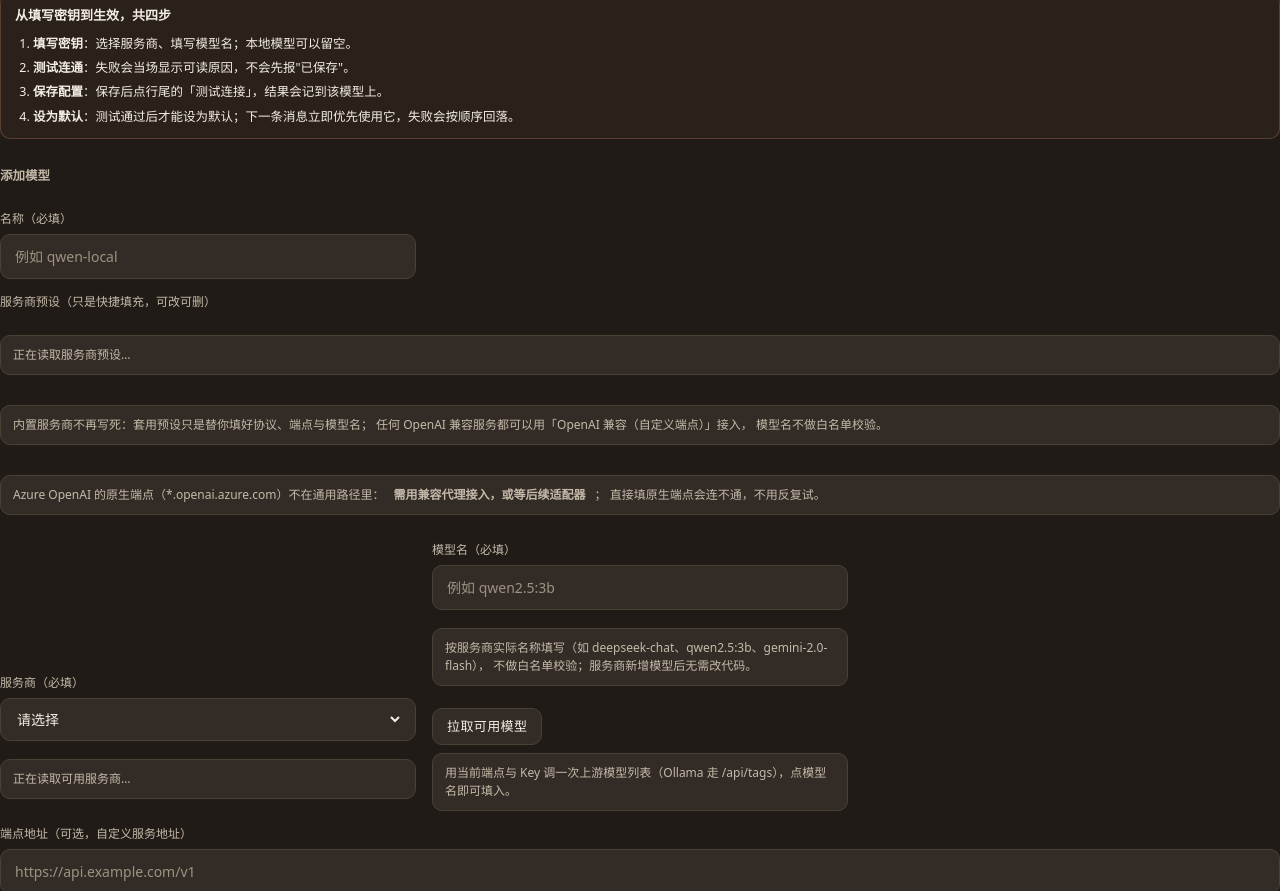
Test: 乐观并发（P2 前端） › 新建（POST）遇到 409 不被版本冲突逻辑劫持
Type "新模型" into the field labelled "名称（必填）" at (208, 256), box [13, 245, 403, 268]
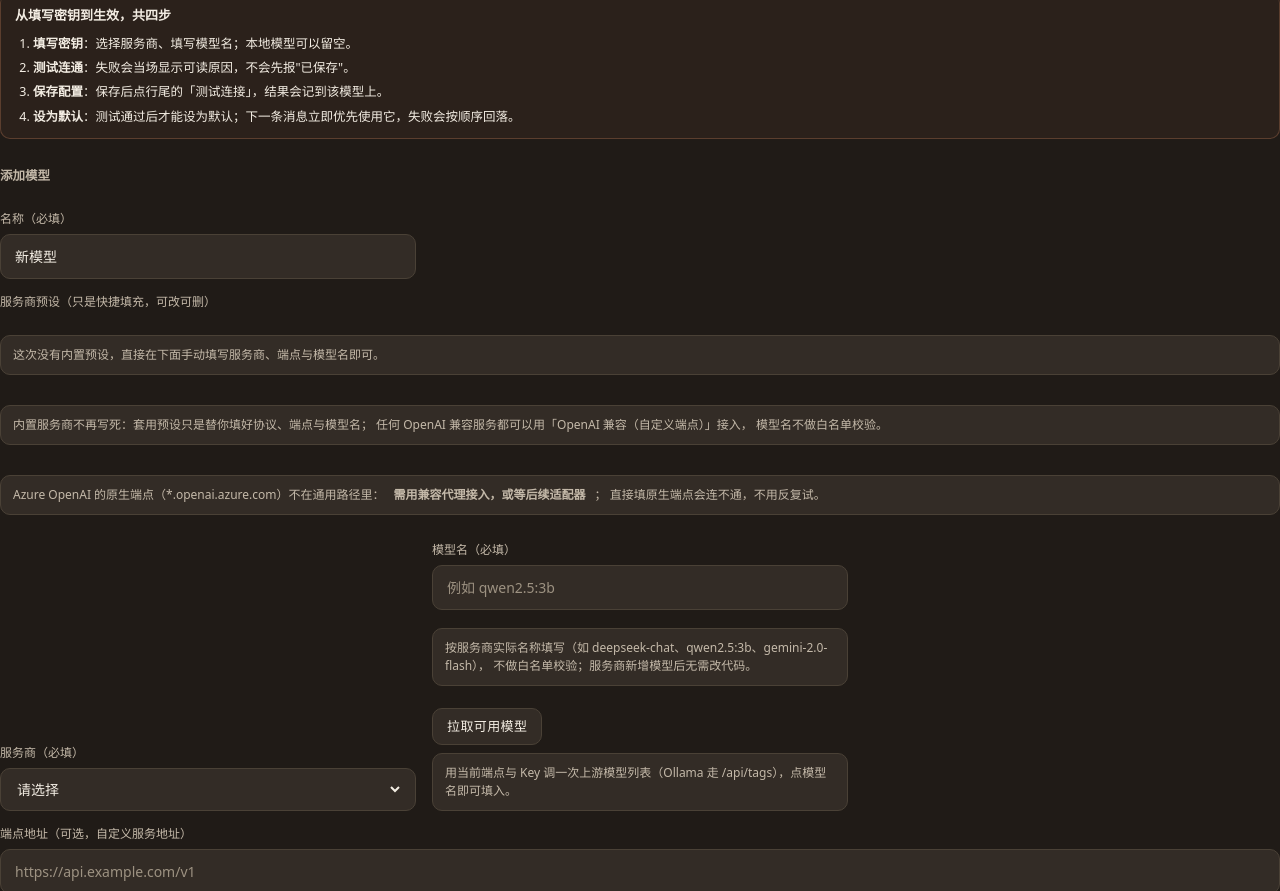
Select "openai_compatible" in the dropdown labelled "服务商（必填）" at (208, 790), box [13, 779, 403, 800]
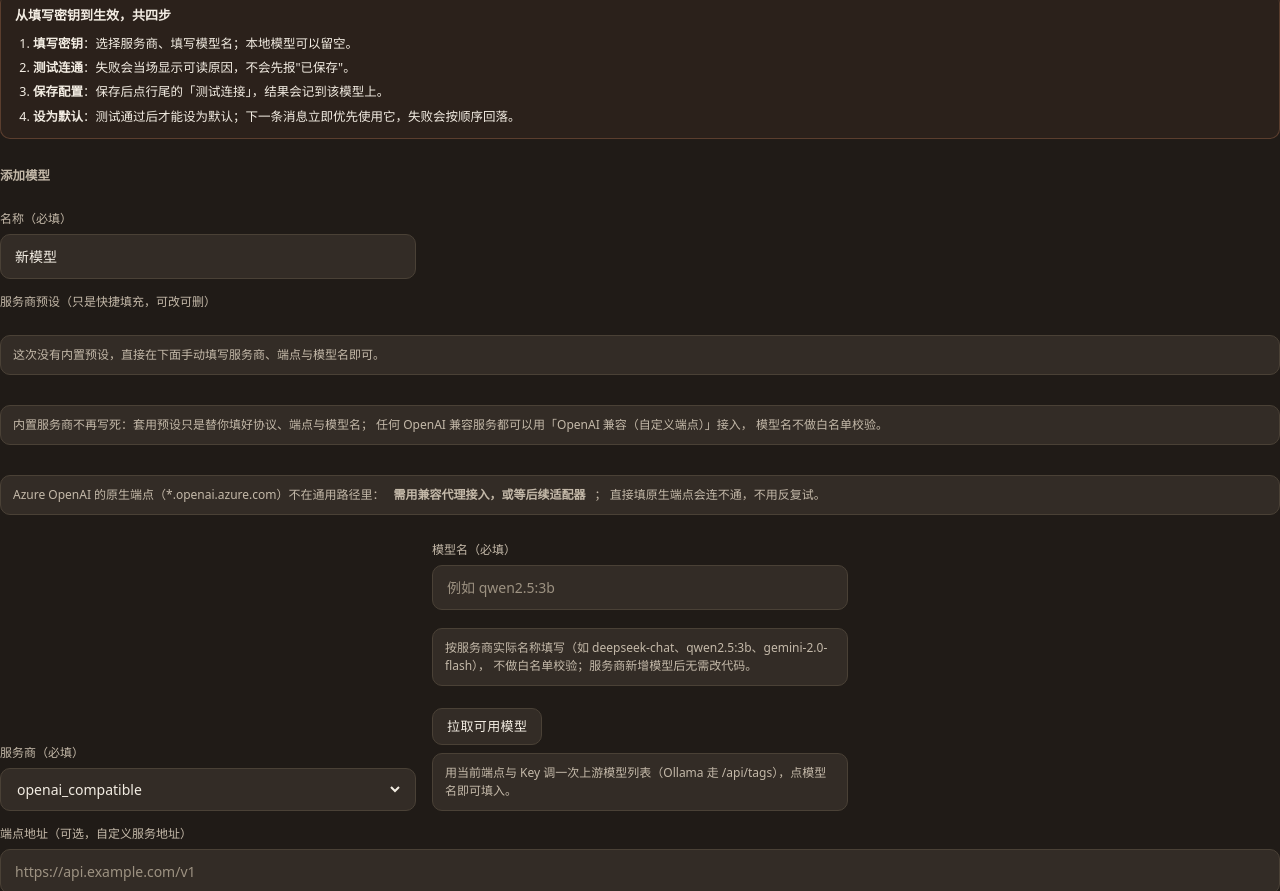
Type "gpt-4o-mini" into the field labelled "模型名（必填）" at (640, 587), box [445, 576, 835, 599]
(page scrolled)
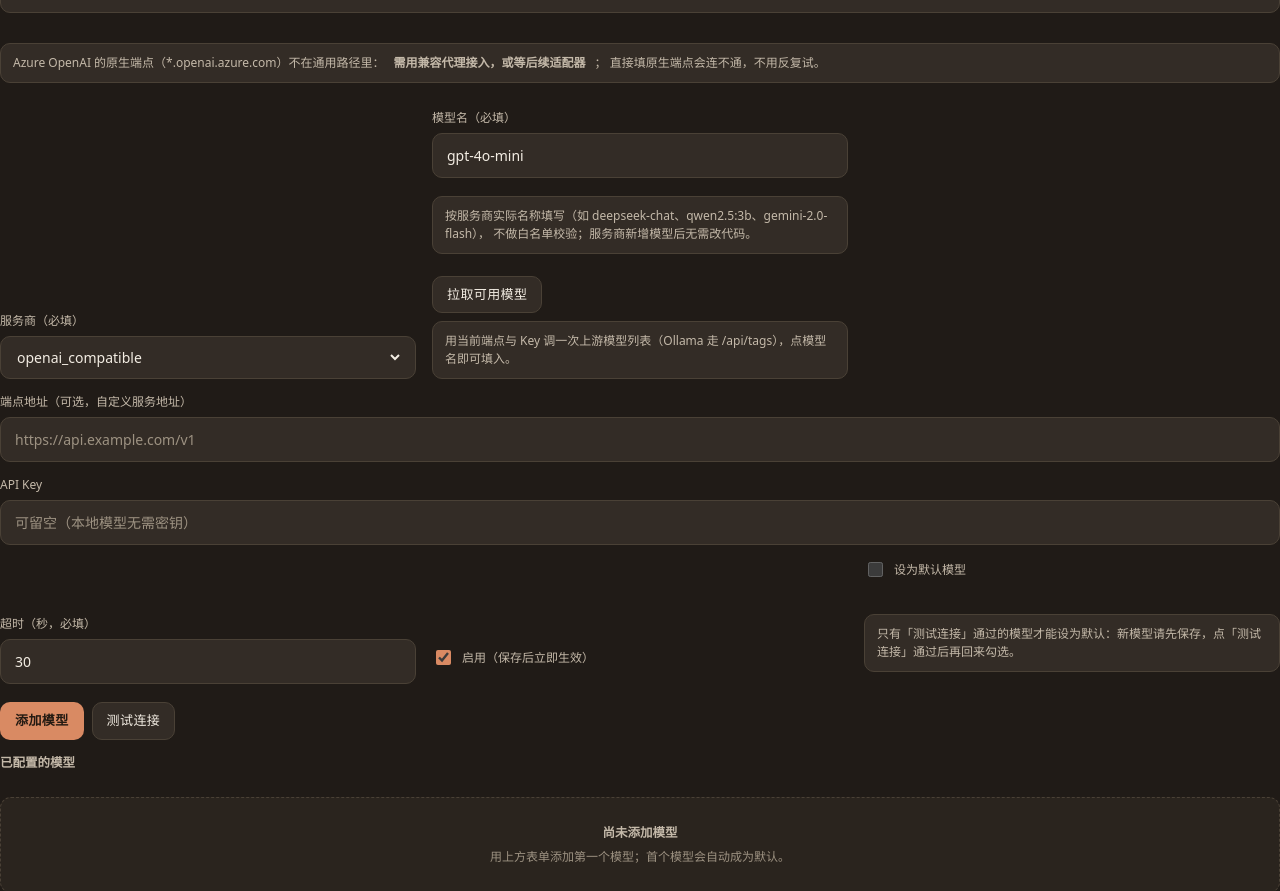
Click the button "添加模型" at (42, 721), box [0, 702, 84, 740]
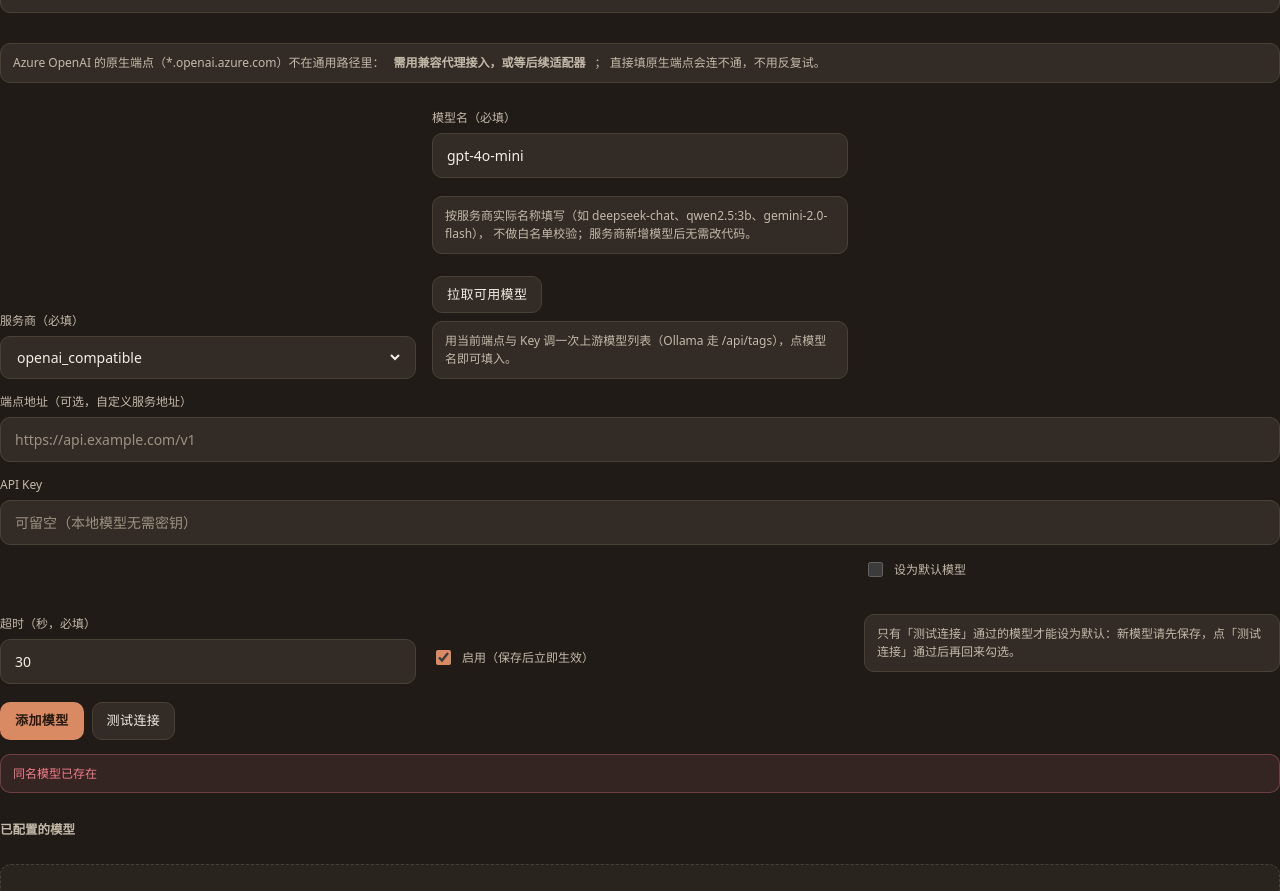
expect the text "同名模型已存在" is shown: met, box [13, 765, 97, 782]
